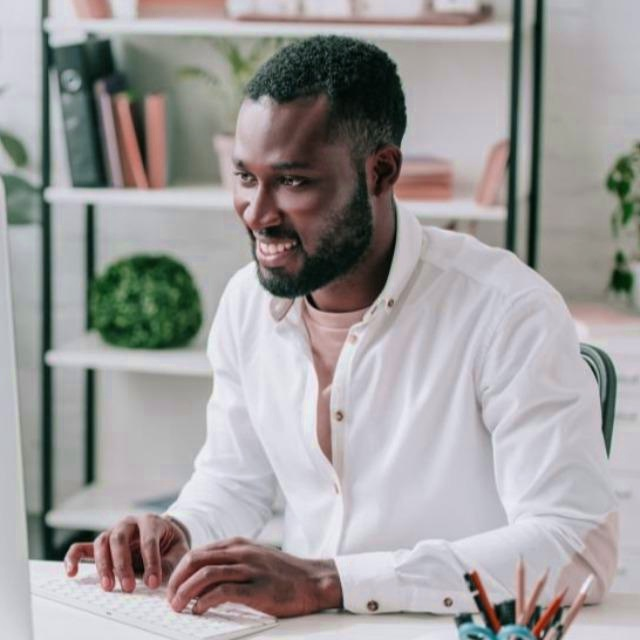Sin_Casco_Mascarrilla: (228, 33, 409, 299)
